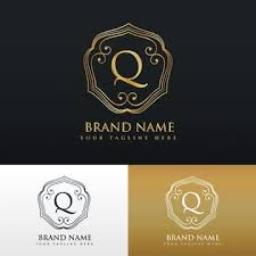q: (105, 46, 151, 92), (44, 188, 82, 218), (179, 192, 207, 216)
